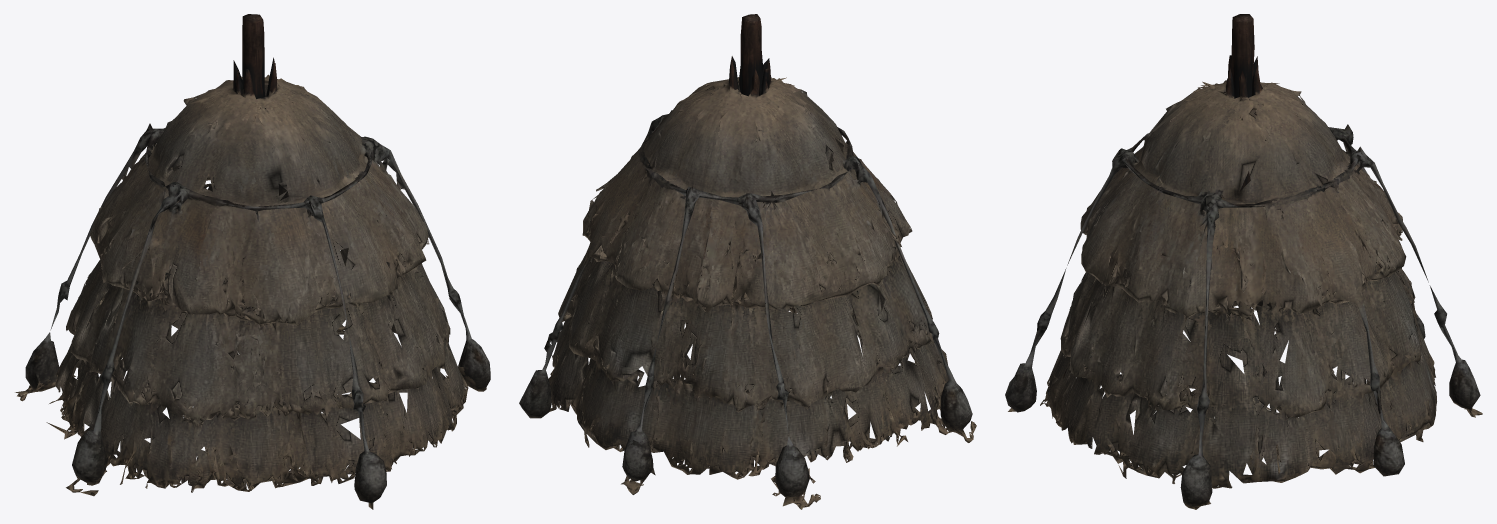
Rendered from prop_haystack.glb.
3 renders of one model, left to right at view 1: azimuth 30°, elevation 25°; view 2: azimuth 150°, elevation 25°; view 3: azimuth 270°, elevation 25°, orthographic. The views are drawn at different scales.
Bounding box in the file's own units: 0.8007 × 0.7446 × 0.808.
Materials: 1 (1 with a texture image).
